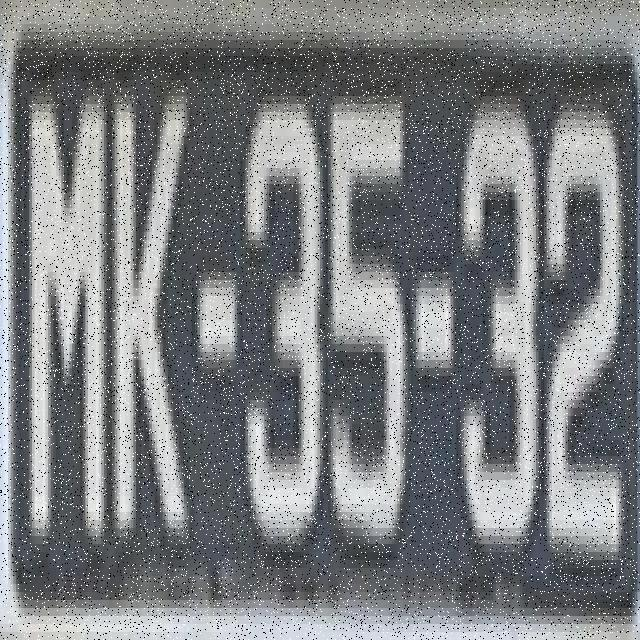LicensePlate: (16, 42, 632, 614)
